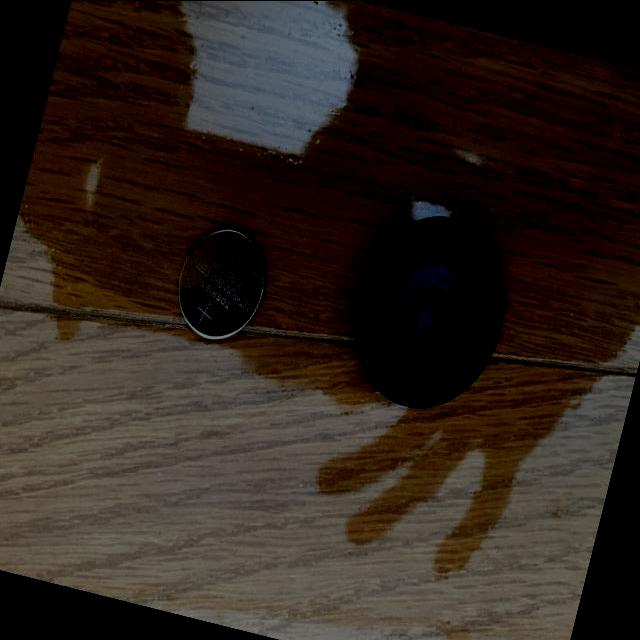COIN: (165, 218, 276, 350)
